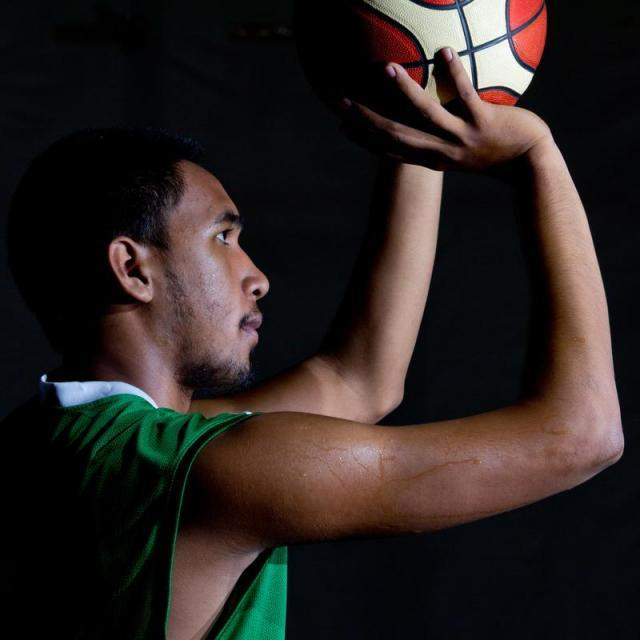rim: (324, 0, 546, 129)
